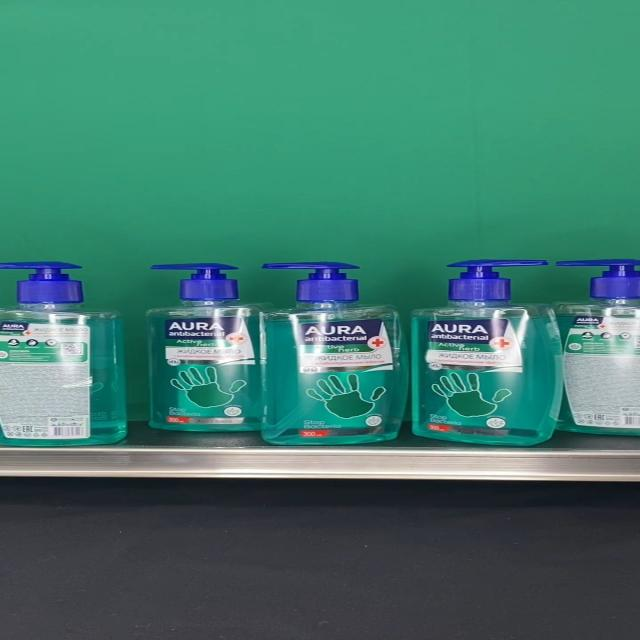Bottle: (412, 258, 564, 446), (262, 262, 408, 442), (0, 262, 127, 445), (144, 264, 278, 433)
Cap: (443, 258, 548, 301), (262, 262, 360, 300), (0, 263, 84, 303), (151, 264, 239, 300)
